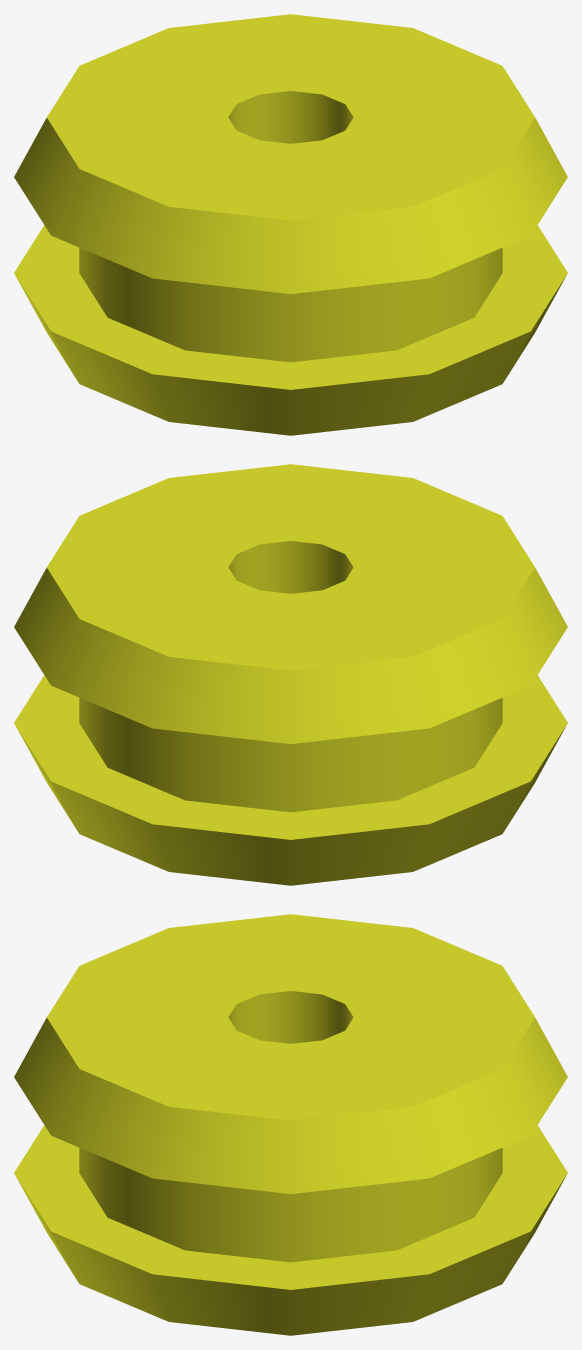
File: Assembly.glb
The picture shows the model from 3 angles, top to bottom: view 1: azimuth 30°, elevation 25°; view 2: azimuth 150°, elevation 25°; view 3: azimuth 270°, elevation 25°; orthographic projection.
Parts seen in each view (by area): view 1: Assembly; view 2: Assembly; view 3: Assembly.
Boxes of the visible parts, x1,y1,x2,y2 form: Assembly: (14, 14, 567, 435); Assembly: (14, 464, 567, 885); Assembly: (14, 914, 567, 1335).
Size of the model in its own units: 0.7 by 0.3 by 0.7.
1 material, 1 textured.
